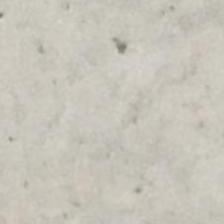Non_Crack: (33, 62, 199, 196)
